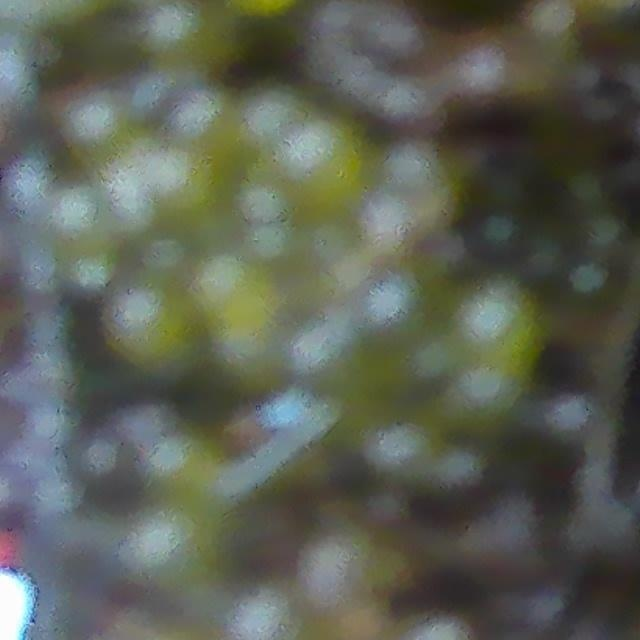SeaGrape: (119, 500, 217, 591), (185, 243, 272, 334), (109, 291, 203, 375), (456, 286, 535, 359), (67, 243, 115, 290), (17, 241, 60, 290)
